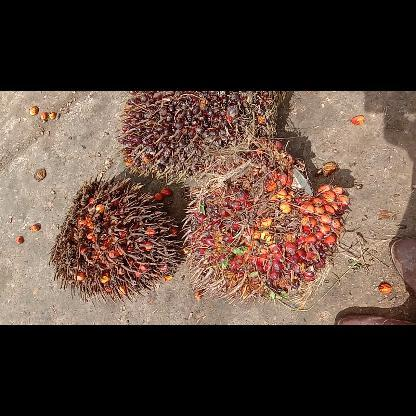Kurang masak: (121, 90, 286, 182)
TBS masak: (182, 139, 348, 298)
Terlalu masak: (51, 177, 180, 297)
